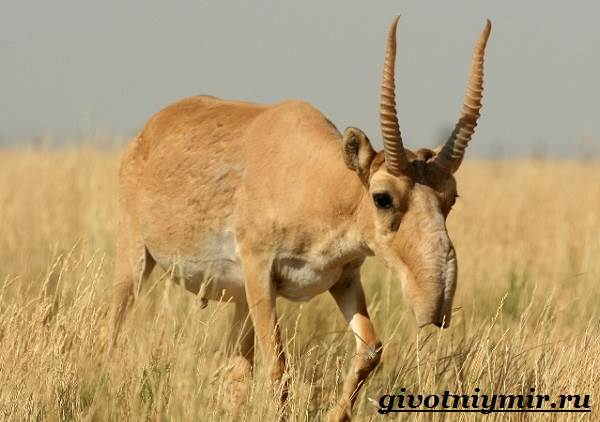saiga: (108, 10, 519, 420)
